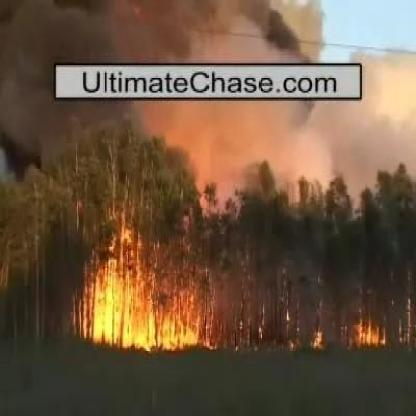-: (75, 2, 325, 64), (156, 100, 344, 149)
foggia-v2-map80-epoch100 - v1 4323: (93, 267, 173, 346)
